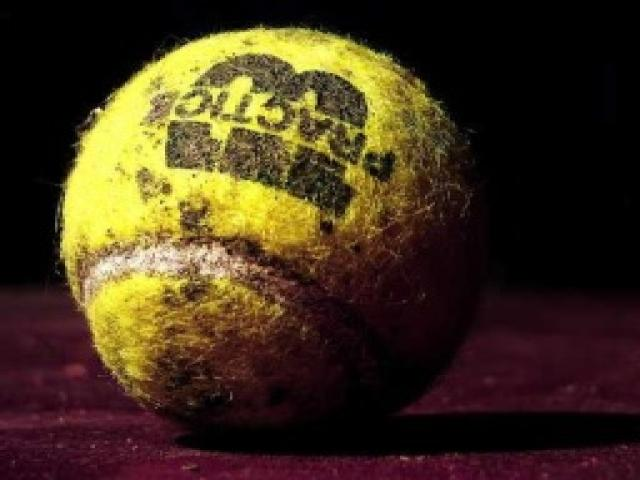tennis-ball: (52, 25, 490, 439)
